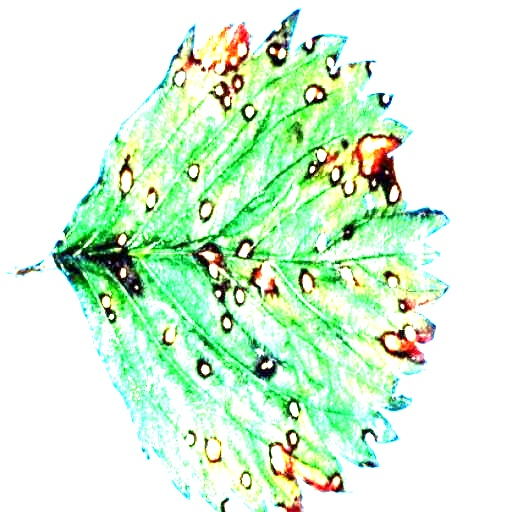Leaf Spot: (52, 6, 454, 511)
